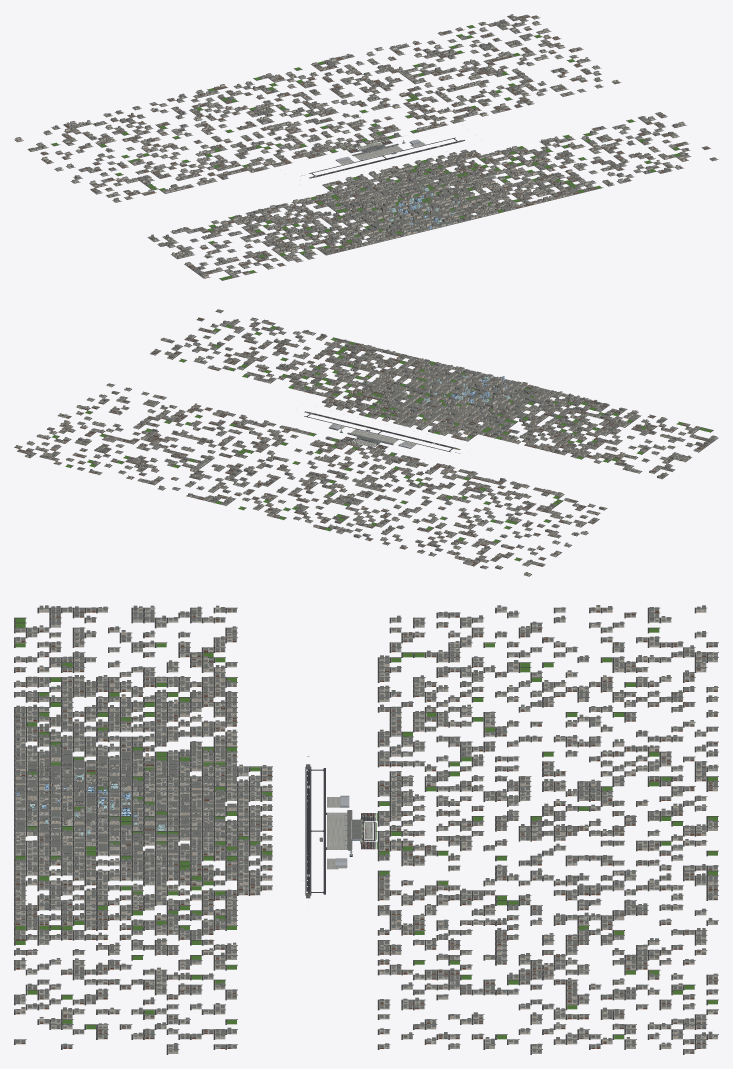
The model's file is airport4.glb.
3 views of the same model, one above another, from view 1: azimuth 30°, elevation 25°; view 2: azimuth 150°, elevation 25°; view 3: azimuth 270°, elevation 25° (orthographic). The views are drawn at different scales.
Parts seen in each view (by area): view 1: A2_Town_-1_-2, A2_Town_-2_-2, A2_Town_0_-2, A2_Town_1_-2, A2_Town_0_-1, A2_Town_-1_-1, A2_Town_-3_-2, A2_Town_-1_1, A2_Town_2_-2, A2_Town_-2_-1, A2_Town_1_1, A2_Town_2_1 (+25 smaller); view 2: A2_Town_-1_-2, A2_Town_-2_-2, A2_Town_0_-2, A2_Town_1_-2, A2_Town_-1_-1, A2_Town_0_-1, A2_Town_-3_-2, A2_Town_-1_1, A2_Town_2_-2, A2_Town_-2_-1, A2_Town_2_1, A2_Town_0_2 (+24 smaller); view 3: A2_Town_-1_-2, A2_Town_0_-2, A2_Town_-2_-2, A2_Town_1_-2, A2_Town_0_-1, A2_Town_-1_-1, A2_Town_-3_-2, A2_Town_2_-2, A2_Town_-1_1, A2_Town_-2_-1, A2_Town_2_1, A2_Town_0_2 (+29 smaller).
Boxes of the visible parts, x1,y1,x2,y2 form: A2_Town_-1_-2: (359,186,470,236); A2_Town_-2_-2: (284,204,401,255); A2_Town_0_-2: (429,170,544,219); A2_Town_1_-2: (503,152,614,201); A2_Town_0_-1: (401,149,500,187); A2_Town_-1_-1: (329,166,424,204); A2_Town_-3_-2: (221,223,317,269); A2_Town_-1_1: (244,98,343,141); A2_Town_2_-2: (578,136,683,183); A2_Town_-2_-1: (264,183,356,223); A2_Town_1_1: (384,67,487,109); A2_Town_2_1: (458,47,559,89); A2_Town_-1_-2: (423,369,533,417); A2_Town_-2_-2: (492,386,609,436); A2_Town_0_-2: (348,351,464,400); A2_Town_1_-2: (279,333,390,382); A2_Town_-1_-1: (393,400,490,440); A2_Town_0_-1: (322,383,421,421); A2_Town_-3_-2: (567,407,668,449); A2_Town_-1_1: (303,462,399,505); A2_Town_2_-2: (207,317,315,361); A2_Town_-2_-1: (462,417,565,451); A2_Town_2_1: (84,410,188,451); A2_Town_0_2: (192,474,299,512); A2_Town_-1_-2: (14,767,167,831); A2_Town_0_-2: (14,827,167,895); A2_Town_-2_-2: (14,704,167,771); A2_Town_1_-2: (14,893,167,955); A2_Town_0_-1: (166,828,272,895); A2_Town_-1_-1: (166,769,272,831); A2_Town_-3_-2: (14,646,167,707); A2_Town_2_-2: (14,955,167,1019); A2_Town_-1_1: (460,769,601,831); A2_Town_-2_-1: (166,705,272,771); A2_Town_2_1: (460,953,601,1019); A2_Town_0_2: (600,829,718,895).
Bounding box in the file's own units: 10818 × 101 × 7209.
Materials: 30 (15 with a texture image).
